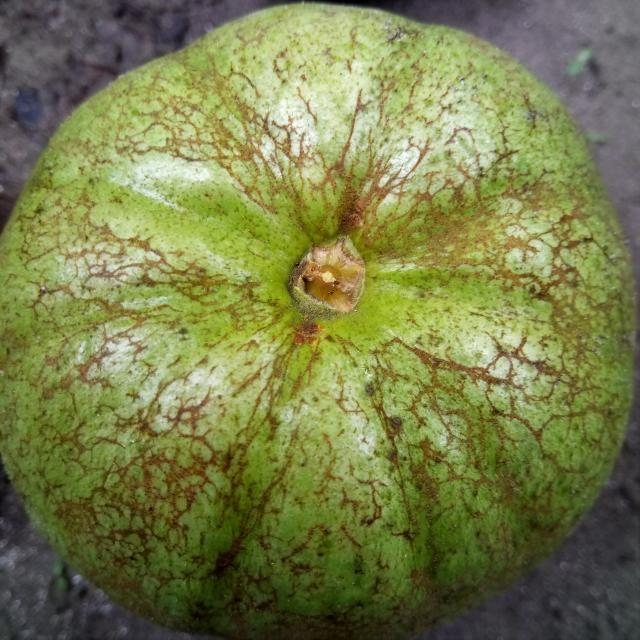Scab: (1, 5, 635, 640)
